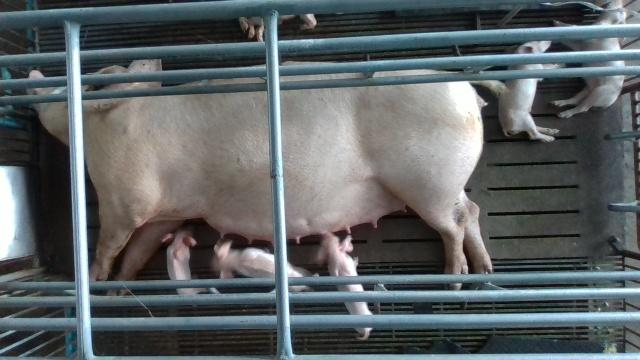piglet: (551, 0, 625, 119), (317, 231, 374, 339), (499, 42, 559, 142), (210, 241, 318, 292), (161, 224, 207, 295), (238, 14, 316, 42)
sow-sleep-lactate: (26, 61, 505, 302)
